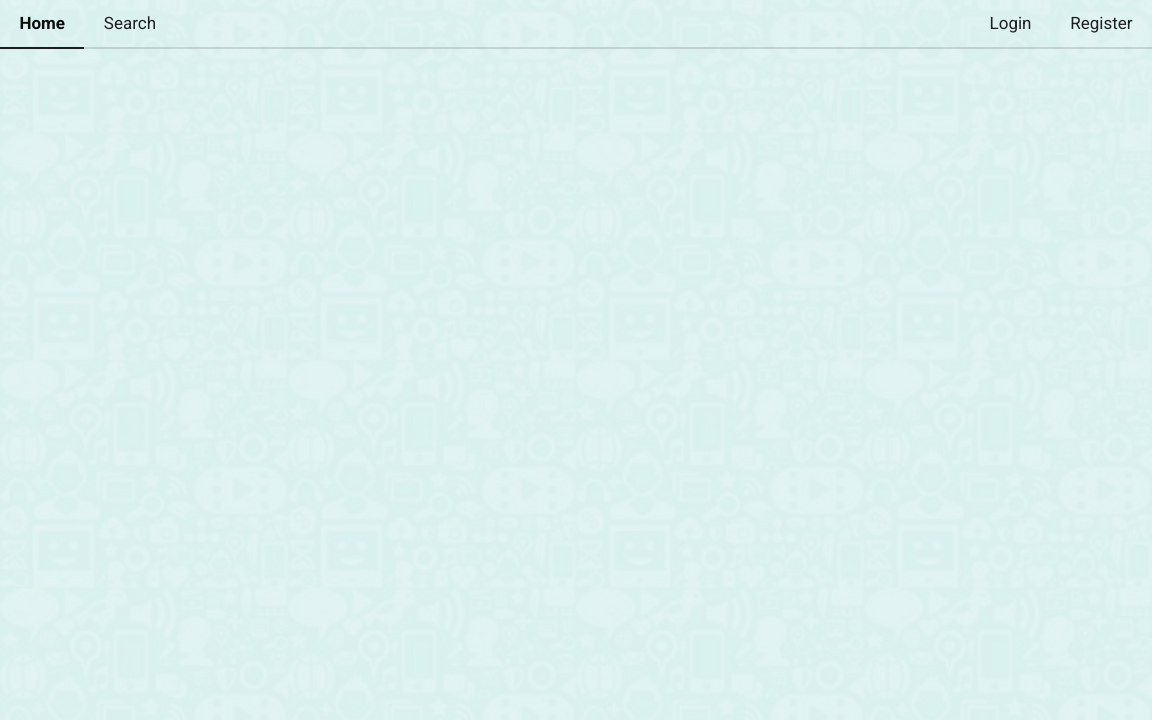
Register › Should fail register due to invalid email
The width and height of the screenshot is (1152, 720).
Click the link "Register": {"x": 1101, "y": 23} [1070,13,1132,33]
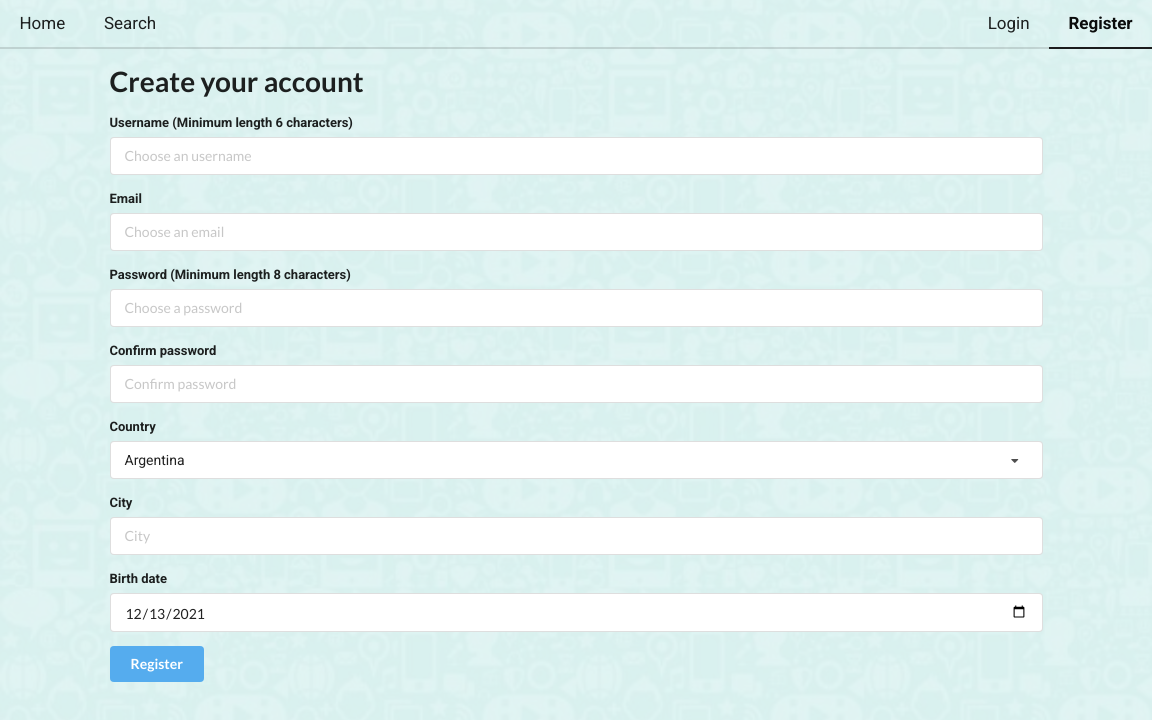
Expected: the link "Register" is shown, [1049,0,1151,48]
In the field with placeholder "Choose an email": {"x": 577, "y": 232} [110,213,1043,251], type "whatever"
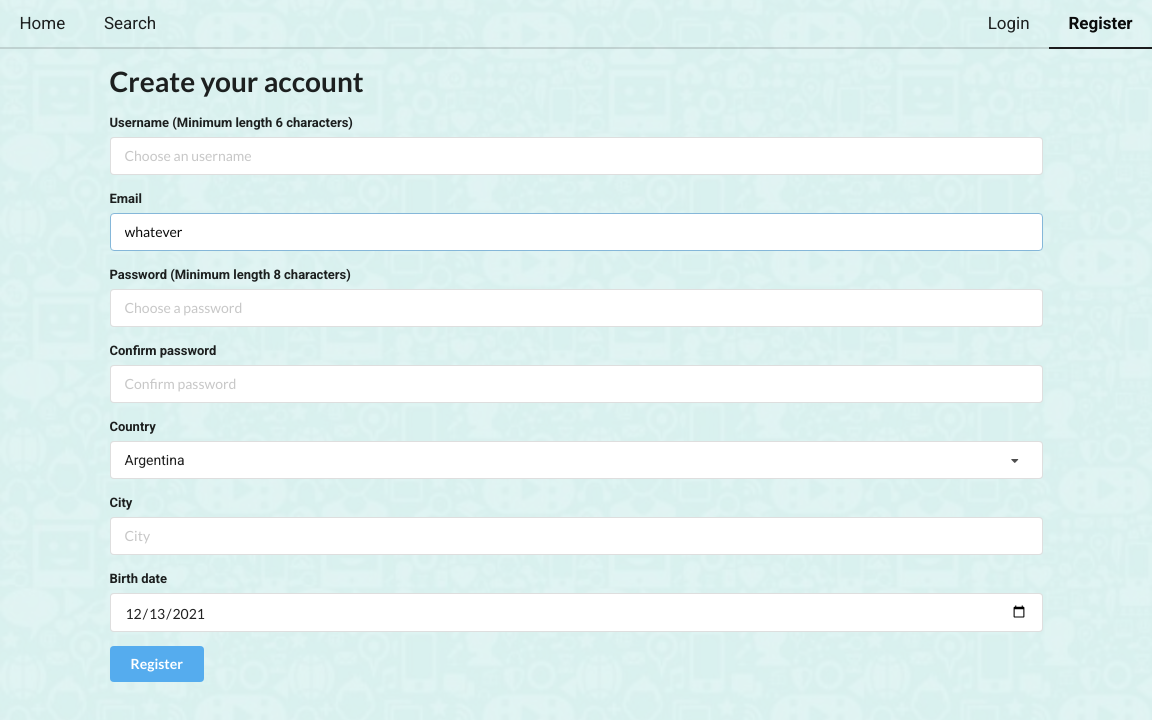
Click the button "Register": {"x": 157, "y": 664} [110,646,204,682]
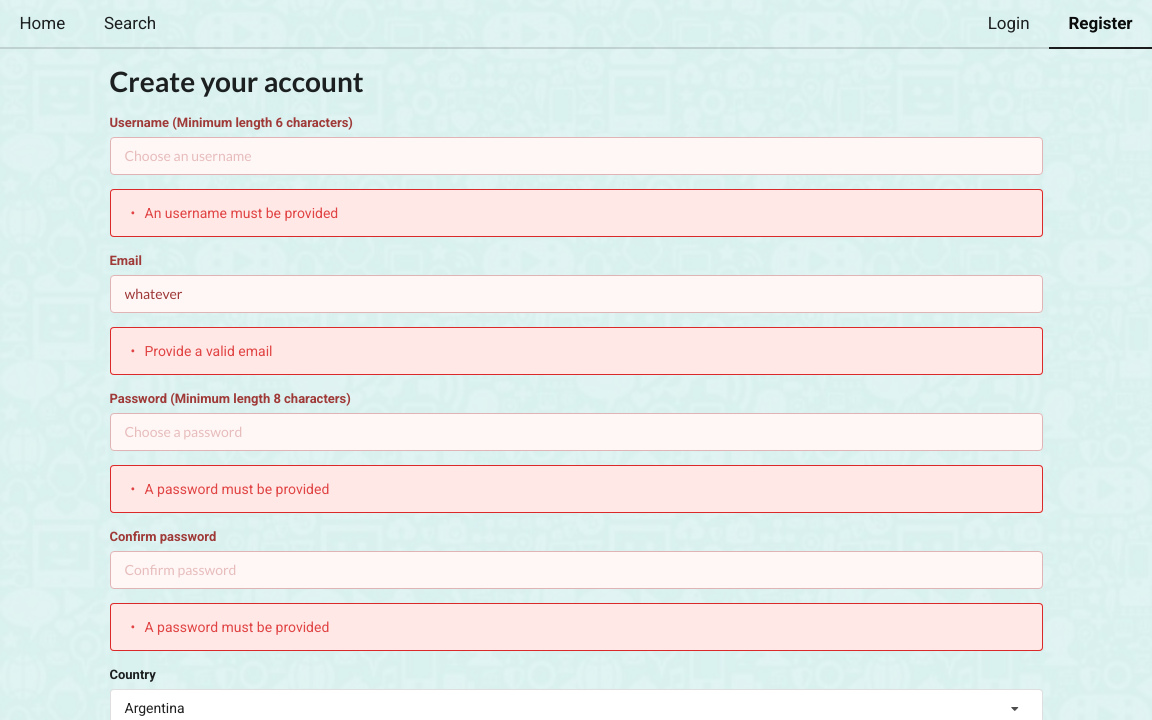
Now the list item "Provide a valid email" is shown, box [144,343,272,359]
